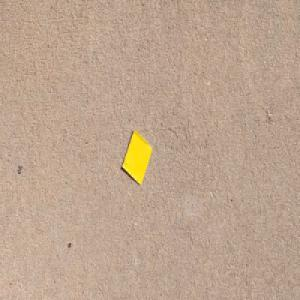PlasticPart: (121, 128, 153, 187)
